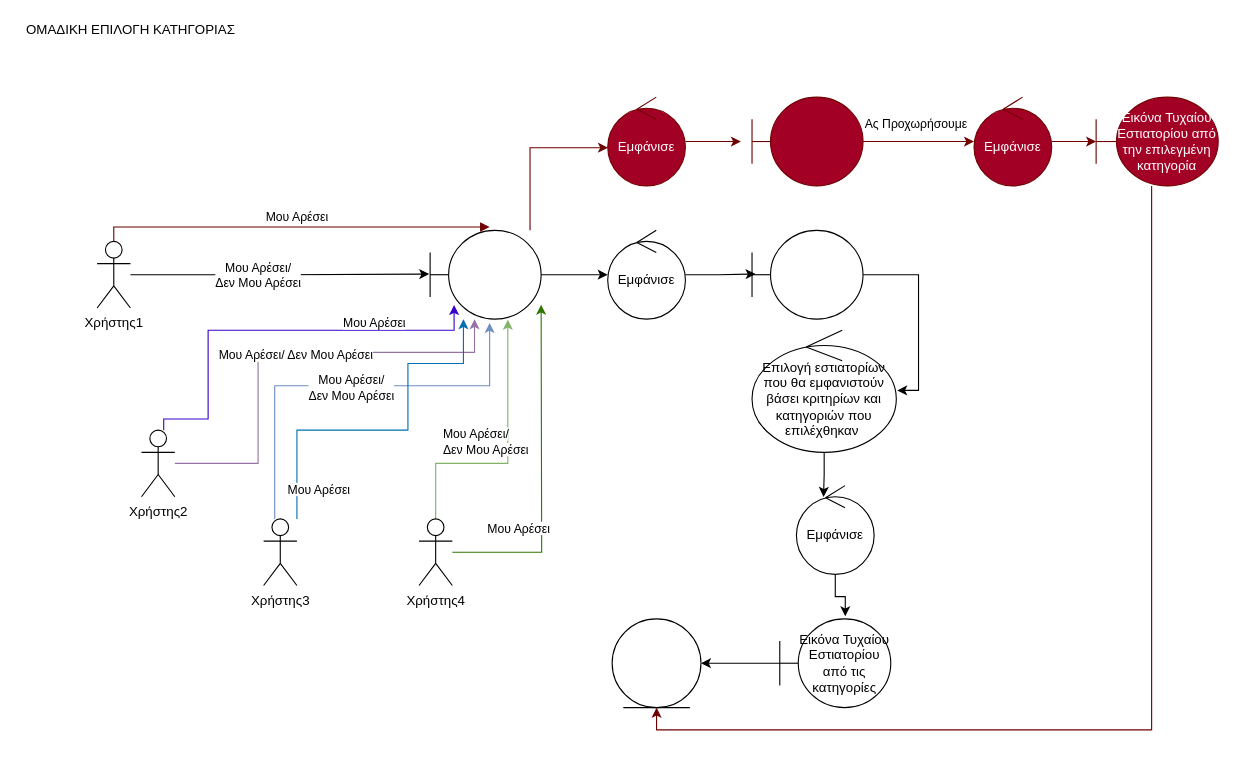
Some shapes in this 1238 by 758 pixel diagram are drawn without their labels. The shapes that lost their labels are listed below. From the top down, each one's centre as x and y in pixels, then its label:
the point at 807,141: Οθόνη Ταιριάσματος Κατηγοριών
the point at 485,274: Εικόνα Τυχαίας Κατηγορίας Φαγητού
the point at 807,274: Οθόνη Επιλεχθεισών Κατηγοριών
the point at 656,663: Διαδικασία Ομαδικής Παραγγελίας
